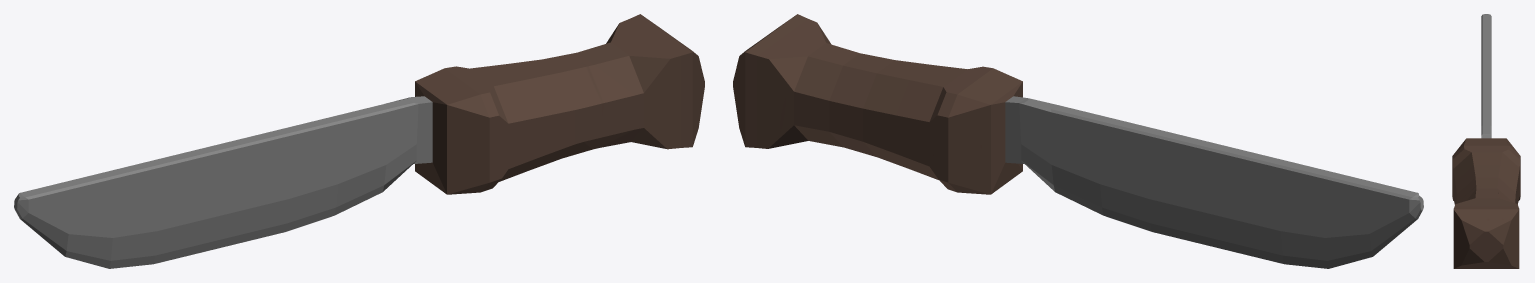
The model's file is knife.glb.
The picture shows the model from 3 angles, left to right: view 1: azimuth 30°, elevation 25°; view 2: azimuth 150°, elevation 25°; view 3: azimuth 270°, elevation 25°; orthographic projection. The views are drawn at different scales.
Parts seen in each view (by area): view 1: Cube; view 2: Cube; view 3: Cube.
Part boxes in pixels (x1,y1,x2,y2): Cube: [14, 14, 704, 268]; Cube: [733, 14, 1423, 268]; Cube: [1452, 14, 1520, 268].
Size of the model in its own units: 1.4 by 0.2115 by 0.1938.
Materials: 1 (1 with a texture image).
